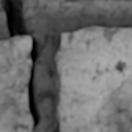brick: (53, 26, 131, 131), (0, 37, 32, 131), (57, 0, 86, 2)
crack: (0, 0, 41, 130)
